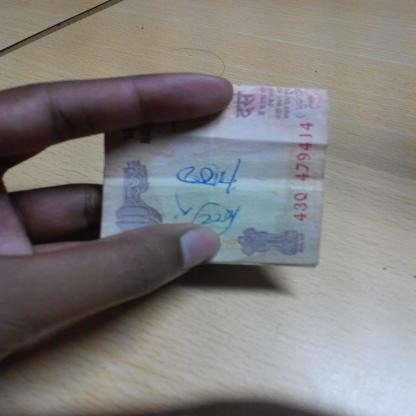Old10Front: (97, 85, 330, 267)
